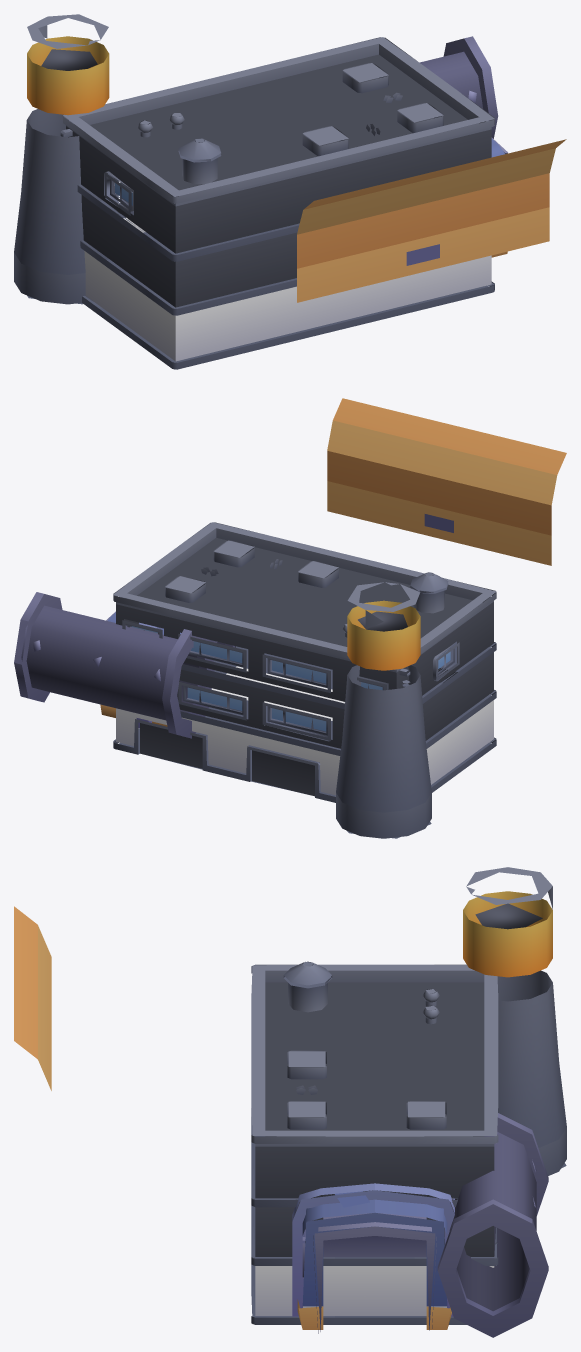
Rendered from SU_HeavyFactory_LOD1.glb.
3 views of the same model, one above another, from view 1: azimuth 30°, elevation 25°; view 2: azimuth 150°, elevation 25°; view 3: azimuth 270°, elevation 25° (orthographic). The views are drawn at different scales.
Parts seen in each view (by area): view 1: building-a, door-wide-open, chimney-large, pipe-large-long; view 2: building-a, door-wide-open, chimney-large, pipe-large-long; view 3: building-a, chimney-large, pipe-large-long, machine-fortified, door-wide-open.
Part boxes in pixels (x1,y1,x2,y2): building-a: (60,37,494,369); door-wide-open: (297,139,566,302); chimney-large: (14,14,117,304); pipe-large-long: (419,36,498,138); building-a: (113,522,496,802); door-wide-open: (327,398,566,565); chimney-large: (336,582,431,838); pipe-large-long: (14,592,214,738); building-a: (251,961,498,1324); chimney-large: (463,867,566,1175); pipe-large-long: (437,1113,548,1337); machine-fortified: (292,1183,454,1333); door-wide-open: (14,906,51,1090).
Size of what is drawn, in the model's own units: 7.6 by 4.08 by 7.49.
5 materials, 5 textured.
